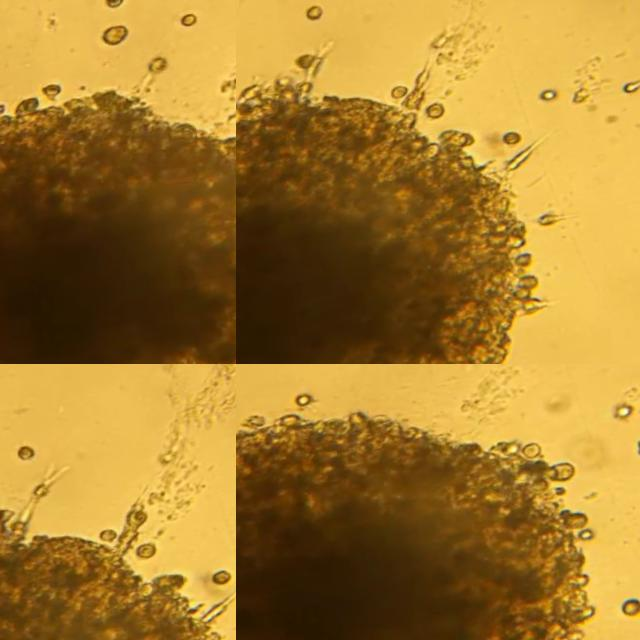cell: (507, 141, 543, 175), (405, 67, 431, 113), (541, 216, 577, 230), (104, 26, 129, 45), (212, 572, 234, 591), (429, 101, 447, 122), (623, 600, 640, 622), (17, 445, 37, 463), (145, 60, 167, 75), (504, 135, 526, 150), (136, 545, 158, 559), (306, 5, 323, 23), (299, 54, 317, 70), (621, 84, 640, 99), (574, 90, 590, 107), (613, 407, 631, 422), (540, 92, 558, 104), (181, 14, 197, 27), (297, 395, 314, 407), (393, 88, 409, 100), (101, 530, 117, 542), (107, 0, 125, 9)
tumor_mass: (236, 76, 555, 364), (236, 412, 600, 640), (0, 90, 236, 364), (0, 460, 236, 640)
